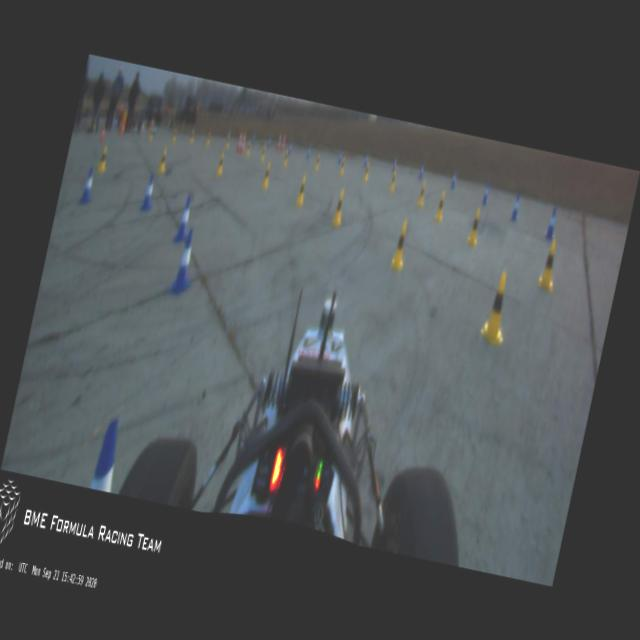blue_cone: (88, 415, 126, 493), (167, 228, 200, 296), (174, 194, 196, 244), (77, 166, 97, 206), (140, 172, 158, 212), (544, 206, 560, 240), (508, 193, 522, 221), (481, 181, 491, 206), (449, 168, 458, 189), (417, 162, 424, 181), (390, 156, 398, 172), (362, 152, 370, 168), (337, 150, 343, 164), (305, 148, 310, 160), (288, 142, 292, 152), (267, 137, 271, 146), (251, 134, 255, 142)
large_orange_cone: (238, 129, 248, 154), (234, 128, 243, 153), (278, 132, 287, 154), (275, 132, 282, 151)
orange_cone: (99, 125, 106, 142)
yellow_cone: (478, 268, 516, 347), (536, 237, 562, 290), (390, 219, 411, 269), (466, 206, 483, 246), (331, 190, 347, 227), (433, 190, 448, 222), (156, 147, 169, 175), (296, 176, 308, 206), (96, 144, 109, 171), (416, 180, 428, 208), (262, 162, 272, 187), (216, 152, 226, 176), (388, 170, 398, 192), (338, 154, 347, 177), (362, 162, 371, 182), (313, 152, 321, 172), (282, 149, 290, 168), (259, 144, 267, 162), (244, 140, 252, 157), (224, 132, 232, 148), (204, 132, 212, 148), (188, 130, 196, 144), (91, 118, 98, 131), (172, 127, 178, 142), (148, 127, 154, 141)
